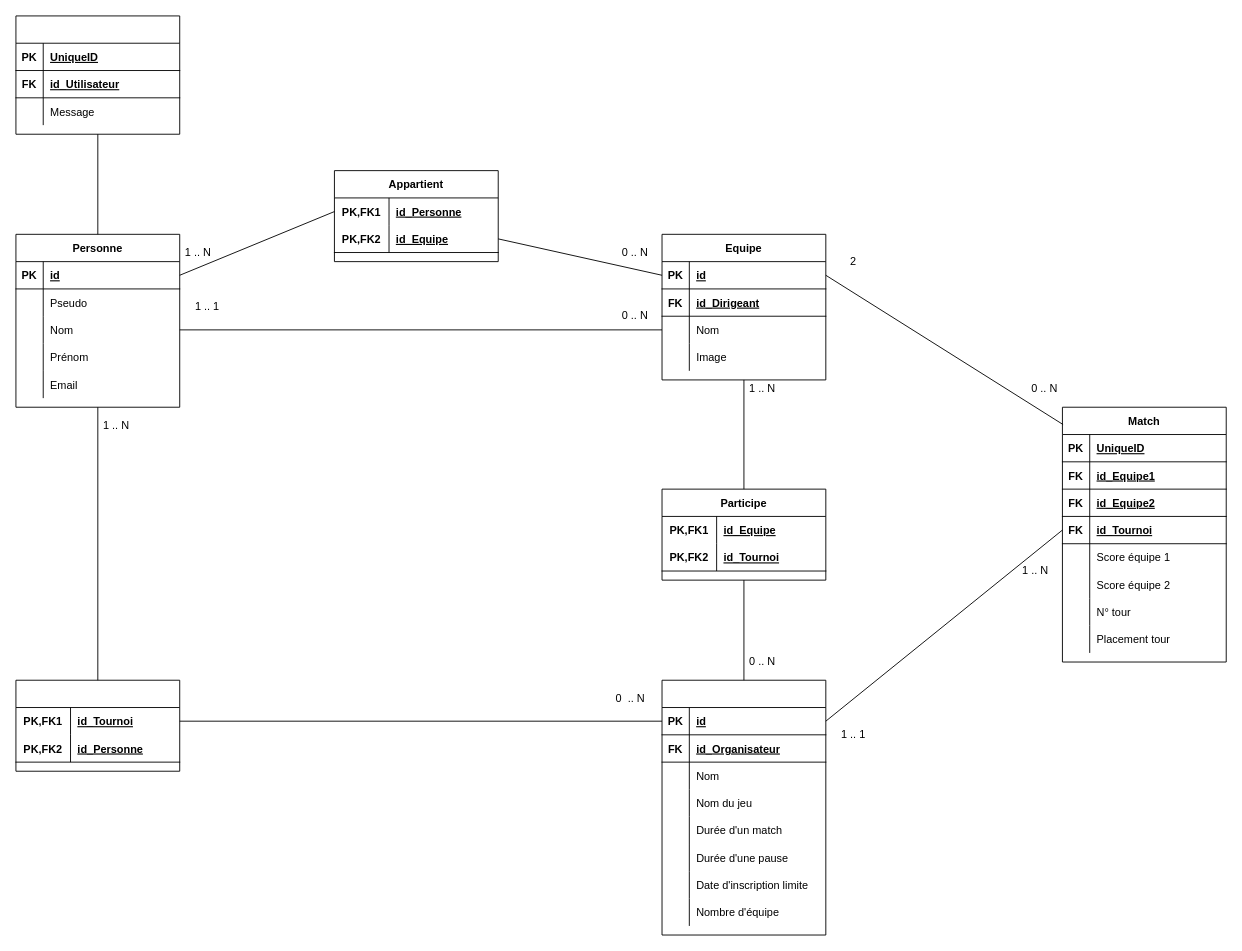
Image size: 1242x951. Some labels were removed from this diagram. Each missing label, with the box of its shape:
Arbitre: (15, 679, 180, 771)
Notification: (15, 15, 180, 134)
Tournoi: (661, 679, 826, 935)
